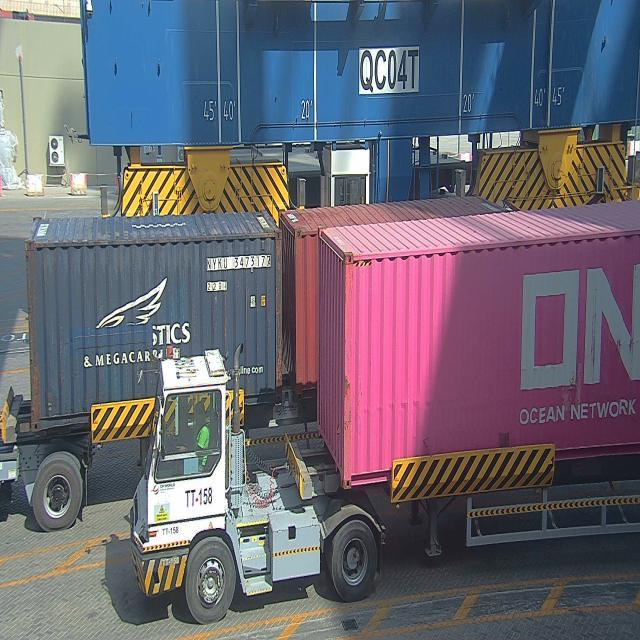rust: (22, 235, 46, 433), (272, 226, 286, 386), (344, 371, 354, 437)
